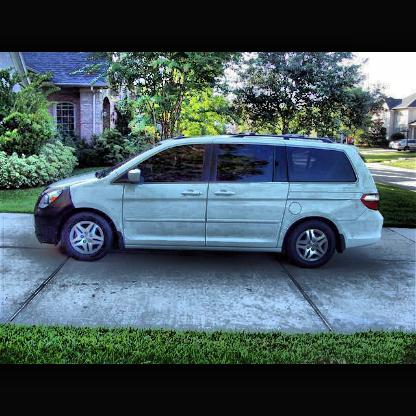Honda Odyssey Minivan 2007: (33, 132, 383, 272)
